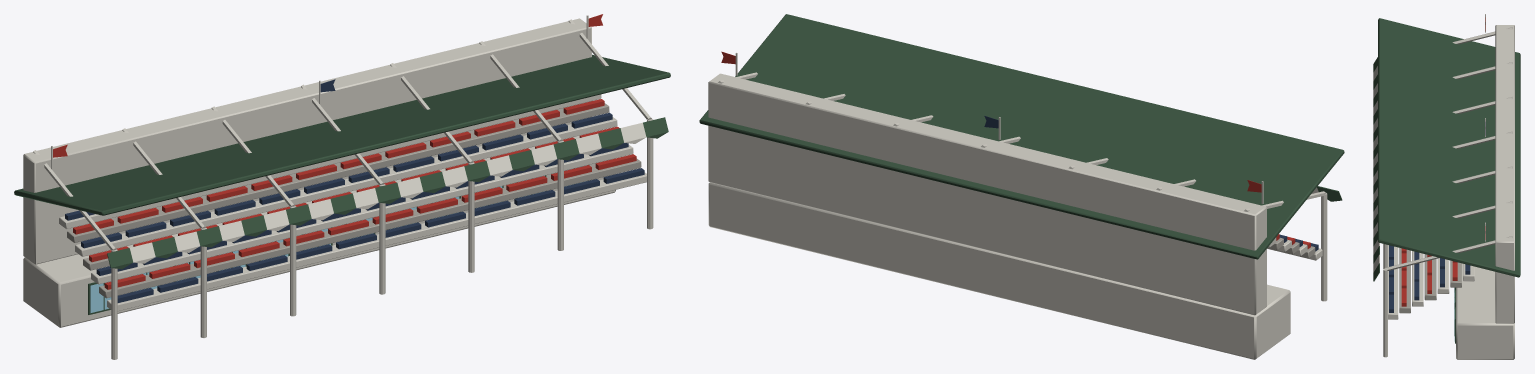
File: 130_tribune_hippodrome.fbx
The picture shows the model from 3 angles, left to right: view 1: azimuth 30°, elevation 25°; view 2: azimuth 150°, elevation 25°; view 3: azimuth 270°, elevation 25°; orthographic projection. The views are drawn at different scales.
Parts seen in each view (by area): view 1: Gradins, Tribune, Toit; view 2: Tribune, Toit, Gradins; view 3: Toit, Tribune, Gradins.
Boxes of the visible parts, left/top/right/bottom form: Gradins: left=59, top=94, right=646, bottom=311; Tribune: left=23, top=18, right=653, bottom=359; Toit: left=14, top=14, right=670, bottom=269; Tribune: left=708, top=73, right=1327, bottom=359; Toit: left=699, top=14, right=1344, bottom=259; Gradins: left=1267, top=234, right=1322, bottom=260; Toit: left=1373, top=14, right=1520, bottom=281; Tribune: left=1383, top=25, right=1514, bottom=359; Gradins: left=1388, top=245, right=1474, bottom=319.
Bounding box in the file's own units: 14 × 3.92 × 3.92.
Materials: 1 (1 with a texture image).
